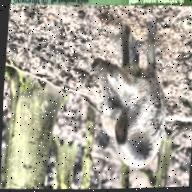boar: (83, 13, 173, 173)
